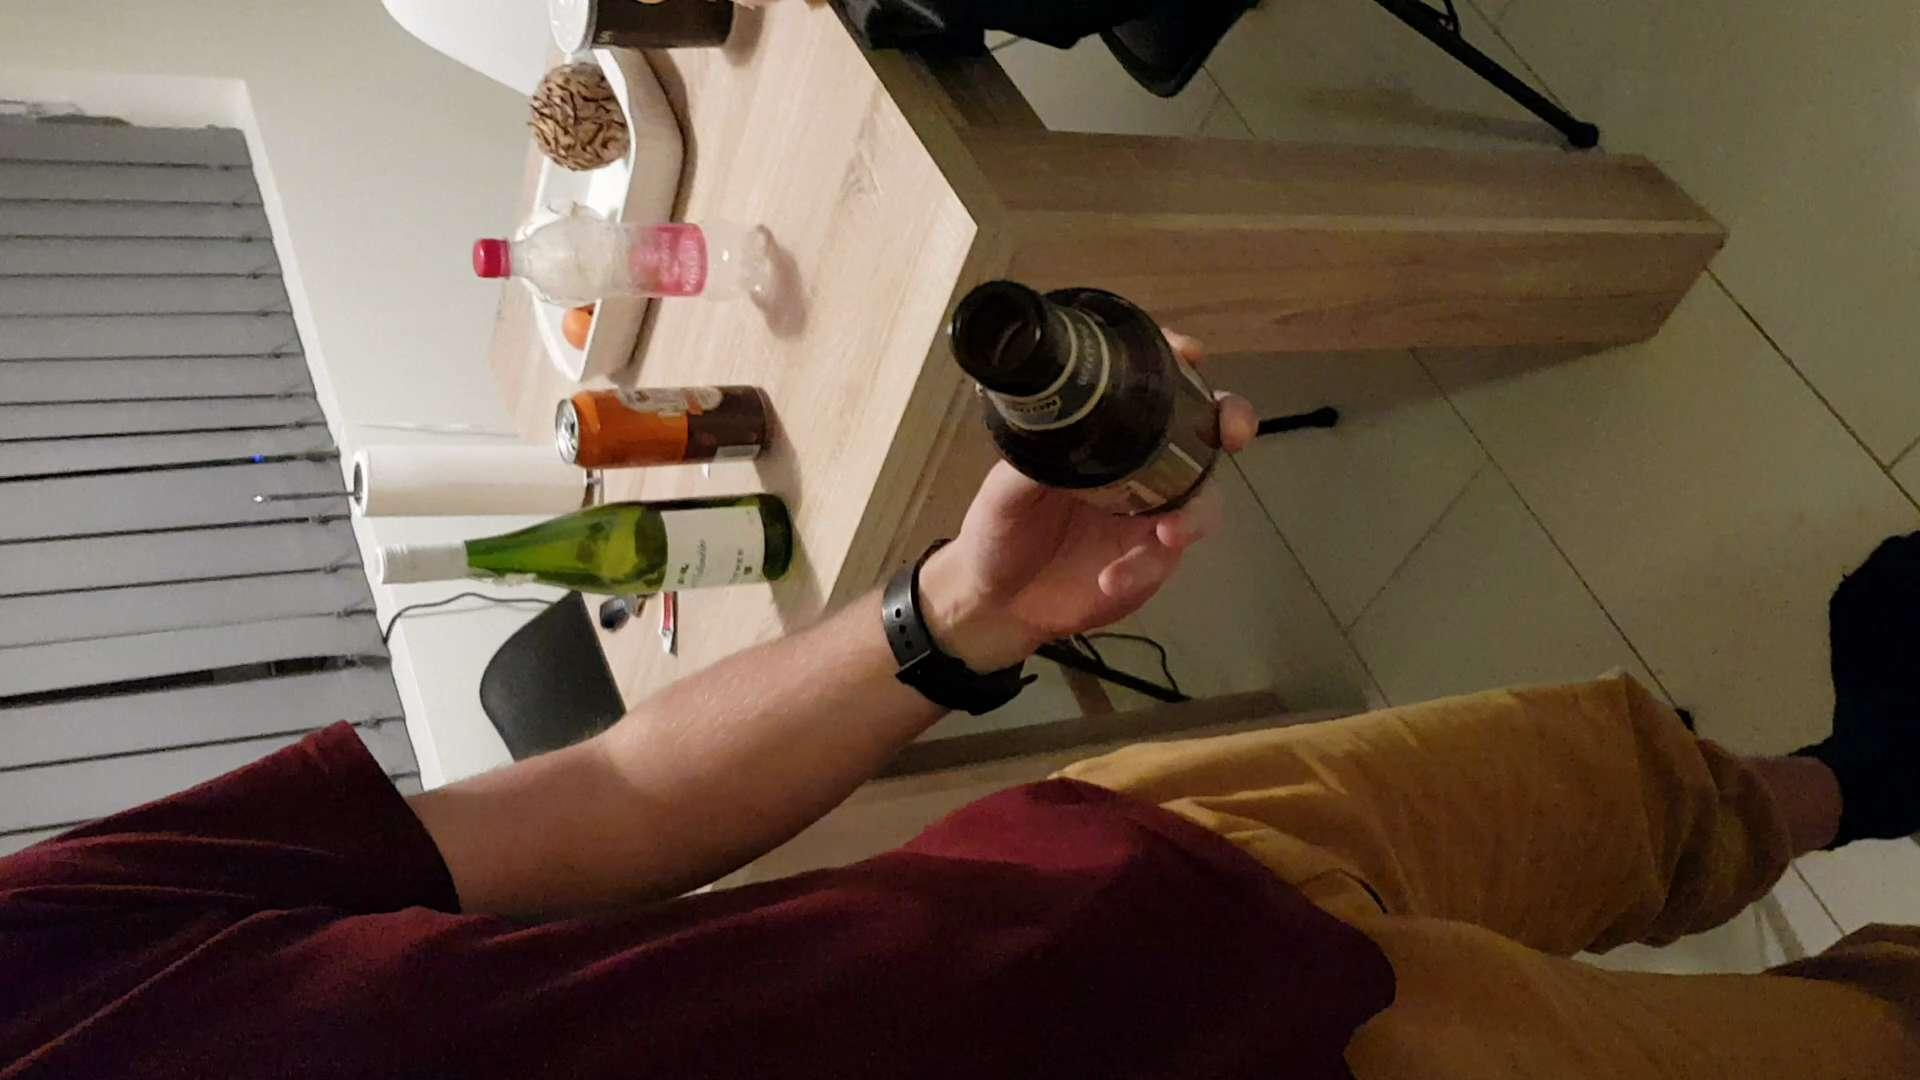Bottle: (934, 273, 1220, 516), (372, 491, 796, 593), (475, 214, 789, 316)
Can: (547, 382, 785, 468)
